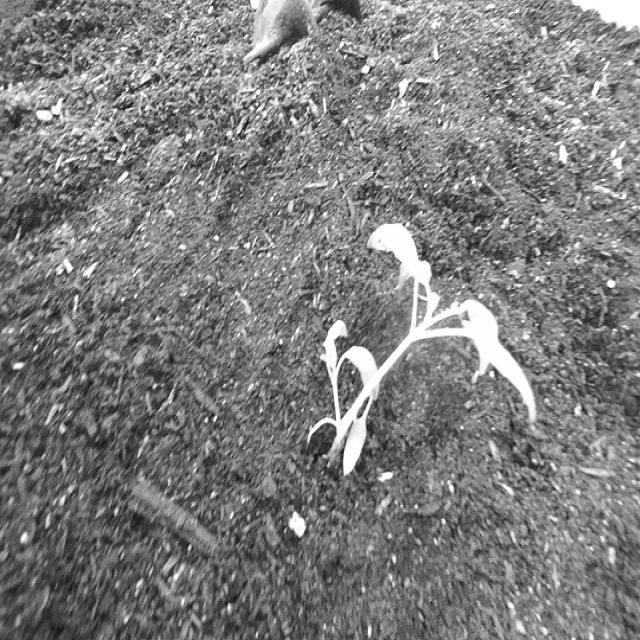Unhealthy: (298, 210, 543, 498)
